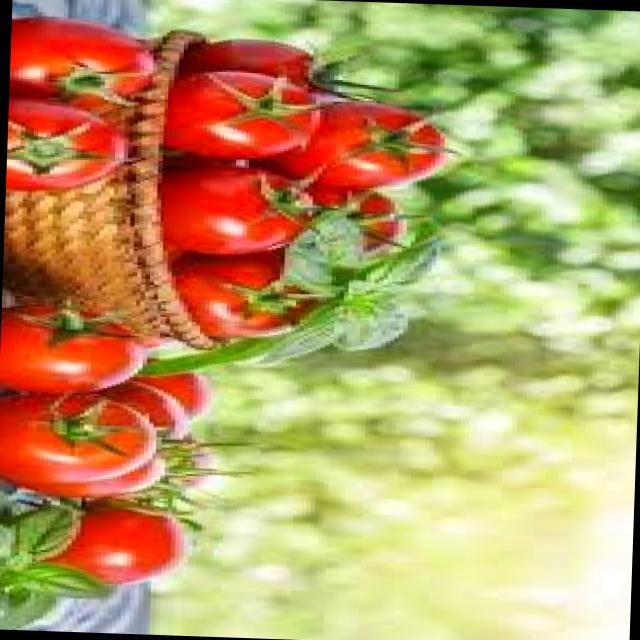Tomato: (151, 150, 341, 268), (0, 388, 170, 497), (162, 69, 337, 166), (176, 251, 342, 346), (8, 6, 162, 106), (0, 301, 156, 397), (4, 93, 134, 204), (28, 504, 189, 592), (306, 99, 459, 188), (198, 28, 346, 104), (7, 448, 176, 514), (99, 367, 225, 439), (316, 182, 430, 256)
